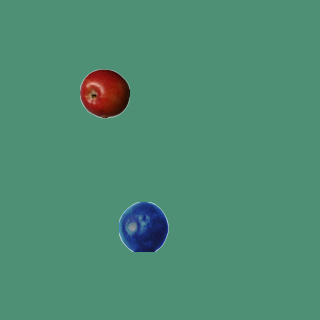Apple Braeburn: (79, 68, 129, 118)
Huckleberry: (118, 201, 168, 251)
